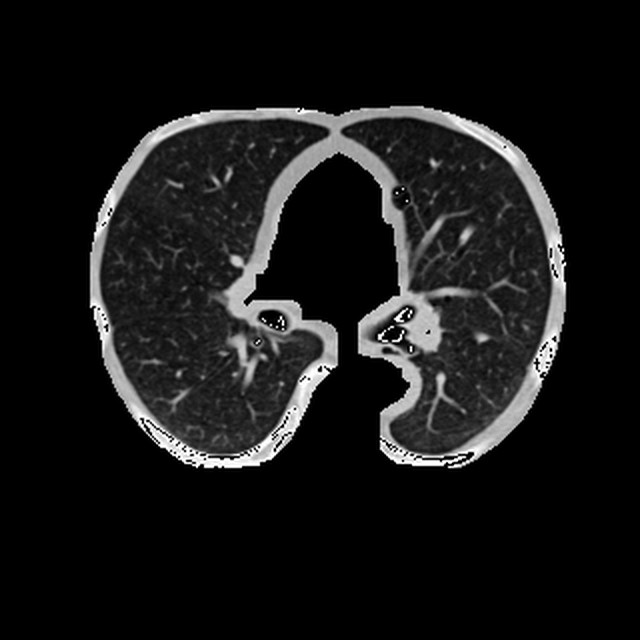PN: (474, 332, 486, 344)
